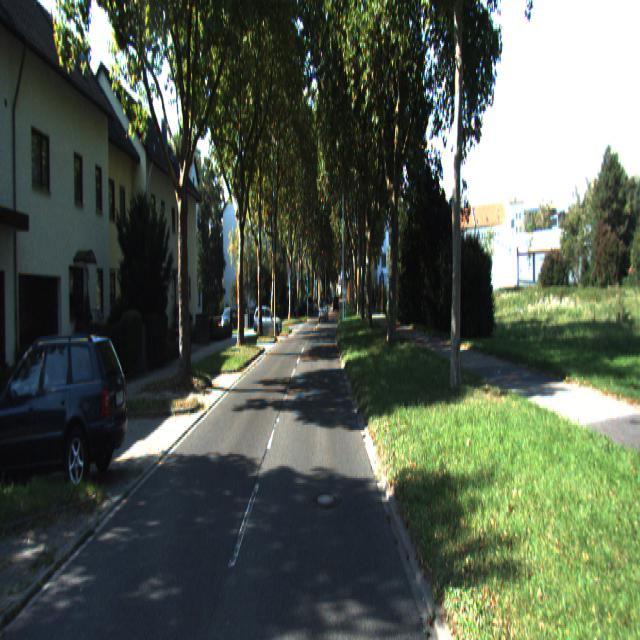Car: (0, 326, 134, 498), (252, 306, 282, 336)
